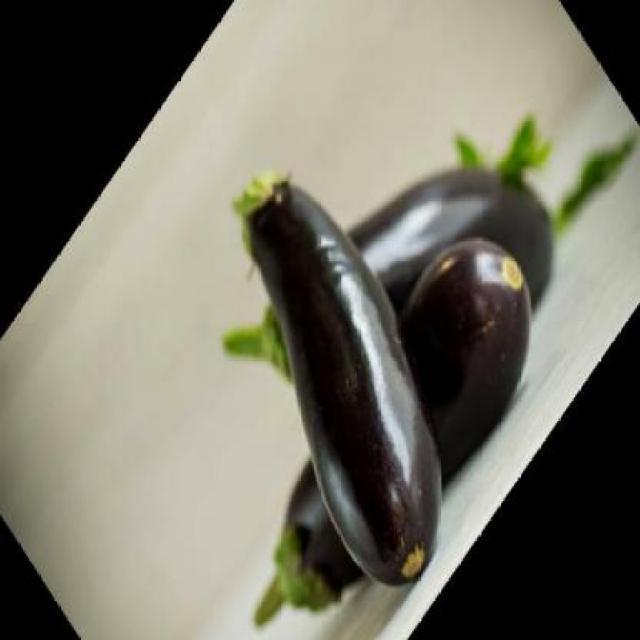eggplant: (217, 147, 566, 570), (218, 196, 534, 620), (232, 171, 499, 618)
